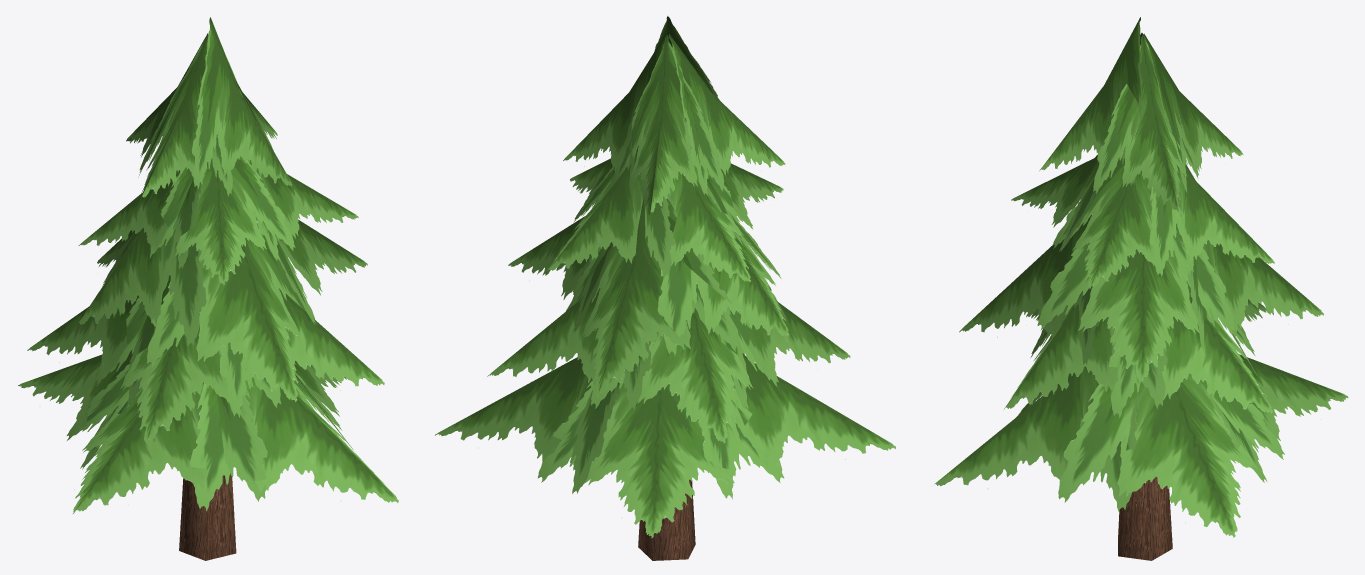
File: TREE.fbx
The picture shows the model from 3 angles, left to right: view 1: azimuth 30°, elevation 25°; view 2: azimuth 150°, elevation 25°; view 3: azimuth 270°, elevation 25°; orthographic projection.
Parts seen in each view (by area): view 1: Tree_1_LOD0; view 2: Tree_1_LOD0; view 3: Tree_1_LOD0.
Boxes of the visible parts, <box> form: Tree_1_LOD0: <box>18,17,398,560</box>; Tree_1_LOD0: <box>435,16,895,560</box>; Tree_1_LOD0: <box>935,17,1348,560</box>.
Size of what is drawn, in the model's own units: 822 by 1127 by 806.
